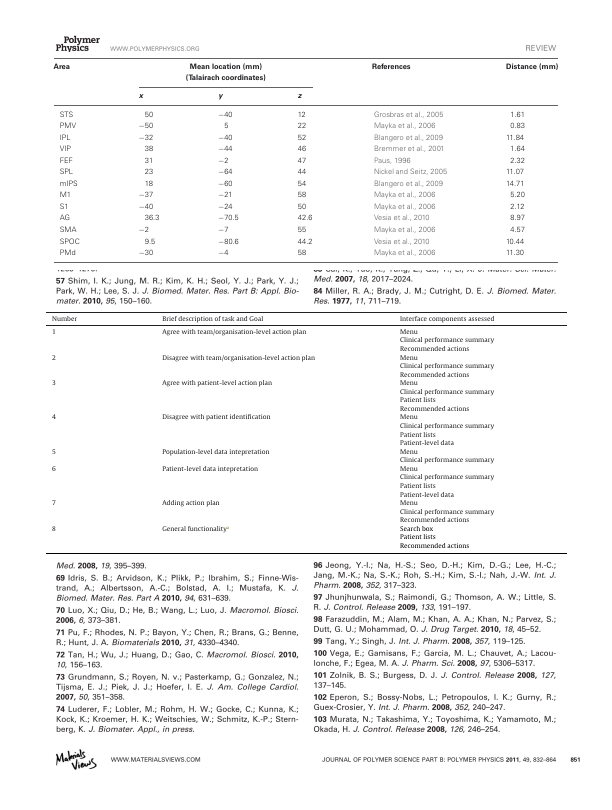borderless: (45, 311, 567, 553), (53, 57, 558, 262)
cell: (398, 380, 494, 414), (398, 414, 494, 448), (398, 466, 494, 500), (398, 354, 494, 380), (398, 329, 494, 354), (398, 500, 494, 525), (398, 526, 470, 551), (185, 63, 267, 83), (398, 448, 494, 465), (161, 354, 315, 363), (161, 329, 307, 337), (161, 414, 271, 423), (161, 448, 270, 457), (161, 315, 264, 324), (161, 380, 272, 388), (398, 315, 495, 324), (161, 466, 258, 474), (373, 168, 448, 177), (373, 146, 445, 155), (373, 111, 444, 120), (373, 134, 444, 143), (373, 180, 444, 189), (161, 525, 230, 534), (373, 203, 436, 212), (373, 226, 436, 235), (373, 249, 436, 258), (373, 215, 430, 224), (373, 238, 430, 247), (373, 123, 436, 131), (373, 192, 436, 200), (161, 500, 220, 508), (505, 63, 559, 71), (373, 157, 412, 166), (371, 63, 412, 71), (50, 315, 78, 324), (217, 215, 240, 224), (217, 238, 240, 247), (59, 238, 81, 247), (505, 134, 525, 143), (505, 168, 525, 177), (59, 180, 79, 189), (505, 180, 525, 189), (505, 238, 525, 247), (505, 249, 525, 258), (59, 226, 77, 235), (59, 249, 77, 258), (217, 111, 234, 120), (509, 111, 526, 120), (217, 134, 234, 143), (217, 146, 234, 155), (509, 146, 526, 155), (509, 157, 526, 166), (217, 168, 234, 177), (217, 180, 234, 189), (217, 192, 234, 201), (217, 203, 234, 212), (509, 215, 526, 224), (509, 226, 526, 235), (52, 63, 71, 71), (59, 123, 77, 131), (138, 134, 154, 143), (138, 192, 154, 201), (138, 203, 154, 212), (509, 203, 525, 212), (144, 215, 160, 224), (297, 215, 313, 224), (297, 238, 313, 247), (138, 249, 154, 258), (509, 123, 526, 131), (509, 192, 526, 200), (59, 111, 74, 120), (59, 157, 74, 166), (59, 168, 74, 177), (138, 123, 154, 131), (59, 134, 72, 143), (59, 146, 72, 155), (59, 192, 72, 201), (217, 157, 229, 166), (59, 215, 71, 224), (138, 226, 150, 235), (217, 226, 229, 235), (144, 238, 156, 247), (217, 249, 229, 258), (144, 111, 154, 120), (297, 111, 307, 120), (297, 134, 307, 143), (144, 146, 154, 155), (297, 146, 307, 155), (144, 157, 154, 166), (297, 157, 307, 166), (144, 168, 154, 177), (297, 168, 307, 177), (144, 180, 154, 189), (297, 180, 307, 189), (297, 192, 307, 201), (59, 203, 69, 212), (297, 203, 307, 212), (297, 226, 307, 235), (297, 249, 307, 258), (297, 123, 307, 131), (50, 354, 56, 363), (50, 414, 56, 423), (50, 448, 56, 457), (223, 123, 229, 131), (50, 329, 56, 337), (50, 380, 56, 388), (50, 466, 56, 474), (50, 500, 56, 508), (50, 526, 56, 534), (138, 94, 144, 101), (217, 94, 223, 101), (297, 94, 302, 101)
